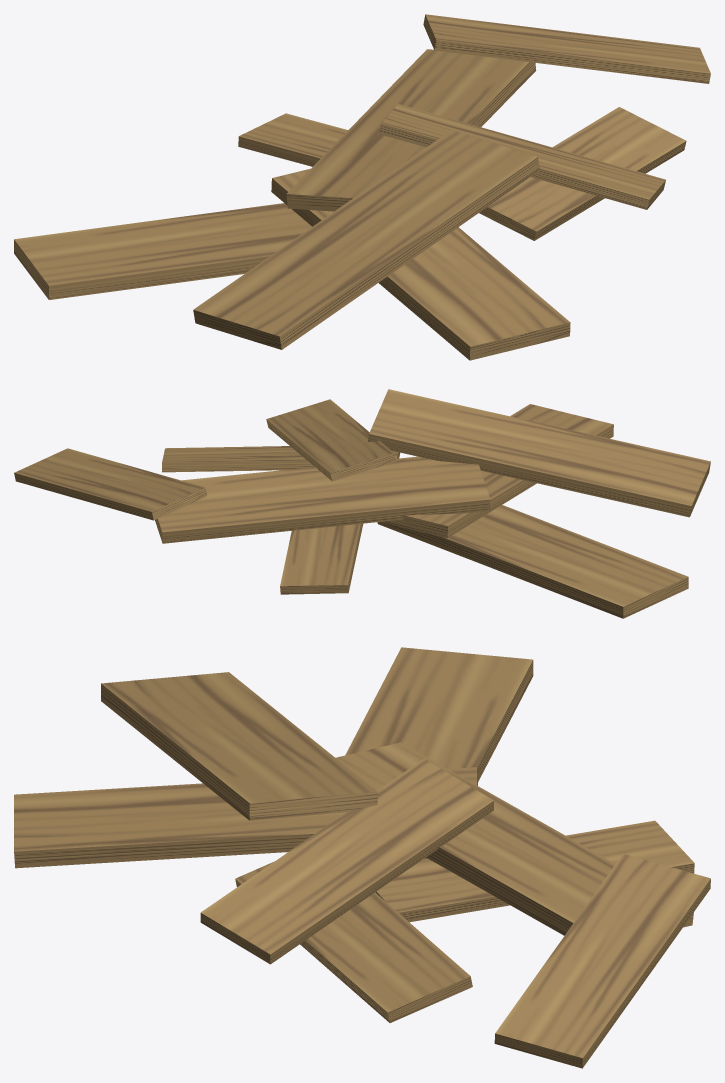
File: hahen.fbx
3 renders of one model, top to bottom at view 1: azimuth 30°, elevation 25°; view 2: azimuth 150°, elevation 25°; view 3: azimuth 270°, elevation 25°, orthographic. The views are drawn at different scales.
Parts seen in each view (by area): view 1: pCube27, pCube25, pCube24, pCube26, pCube28, pCube31, pCube29, pCube30; view 2: pCube27, pCube26, pCube25, pCube28, pCube29, pCube30, pCube24, pCube31; view 3: pCube29, pCube27, pCube28, pCube24, pCube26, pCube25, pCube31, pCube30.
Boxes of the visible parts, bbox=[...] form: pCube27: bbox=[193, 130, 539, 349]; pCube25: bbox=[14, 203, 311, 299]; pCube24: bbox=[271, 168, 570, 360]; pCube26: bbox=[286, 49, 536, 211]; pCube28: bbox=[423, 14, 710, 83]; pCube31: bbox=[479, 107, 686, 240]; pCube29: bbox=[379, 103, 665, 209]; pCube30: bbox=[238, 113, 347, 166]; pCube27: bbox=[367, 389, 710, 517]; pCube26: bbox=[155, 456, 490, 543]; pCube25: bbox=[377, 505, 688, 618]; pCube28: bbox=[14, 448, 207, 520]; pCube29: bbox=[266, 399, 396, 481]; pCube30: bbox=[280, 523, 363, 594]; pCube24: bbox=[381, 404, 613, 538]; pCube31: bbox=[162, 446, 400, 472]; pCube29: bbox=[200, 758, 493, 964]; pCube27: bbox=[101, 672, 377, 820]; pCube28: bbox=[494, 853, 710, 1068]; pCube24: bbox=[14, 767, 477, 868]; pCube26: bbox=[335, 742, 693, 935]; pCube25: bbox=[345, 647, 533, 859]; pCube31: bbox=[235, 861, 472, 1022]; pCube30: bbox=[375, 820, 694, 922].
Size of the model in its own units: 0.8704 by 0.1042 by 0.618.
